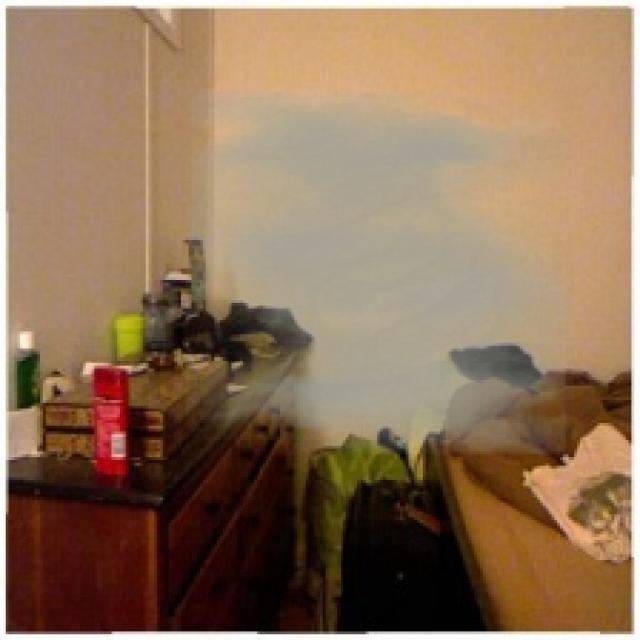Smoke: (186, 88, 574, 454)
